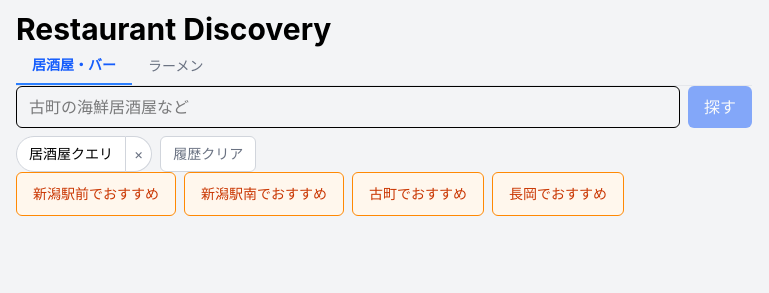
App - ramen-search-mode 結合テスト › 検索履歴分離: ラーメン履歴は居酒屋タブに切り替えても表示されない（Req 5.1, 5.2）
# ラーメンタブに切り替えて検索
Click the tab "ラーメン" at {"x": 176, "y": 66}, box [132,47,220,85]
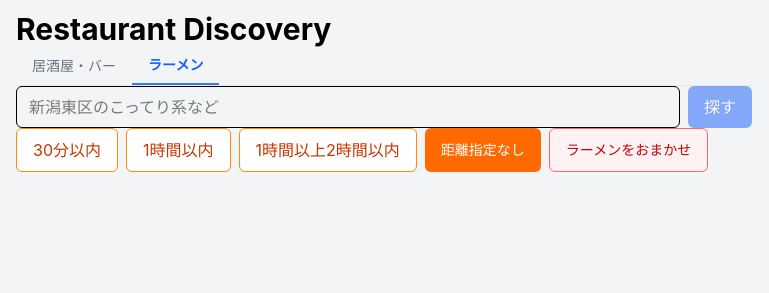
Type "ラーメンクエリ" into the field named "レストラン検索" at {"x": 348, "y": 107}, box [16,86,680,128]
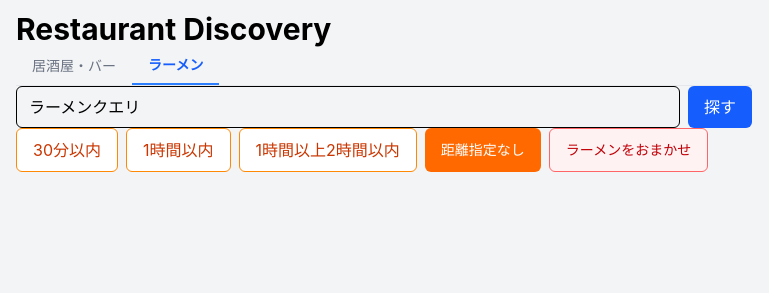
Submit the form, box [16,86,752,128]
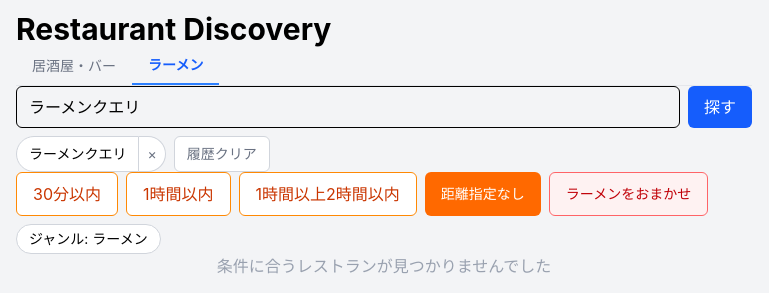
Expected: the text "条件に合うレストランが見つかりませんでした" is shown, [217,256,551,276]
# 居酒屋タブに戻る
Click the tab "居酒屋・バー" at {"x": 74, "y": 66}, box [16,47,132,85]
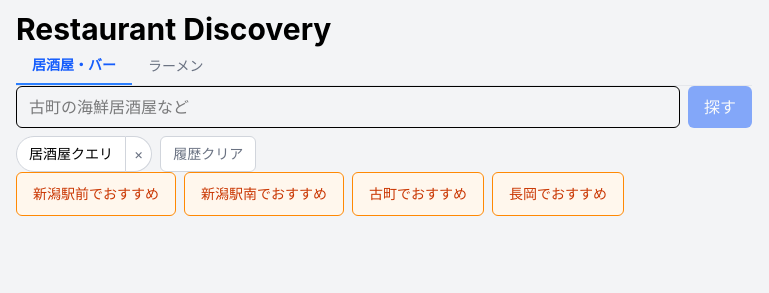
Expected: the button "居酒屋クエリ" is shown, [16,136,126,172]
Expected: the button "ラーメンクエリ" is gone
